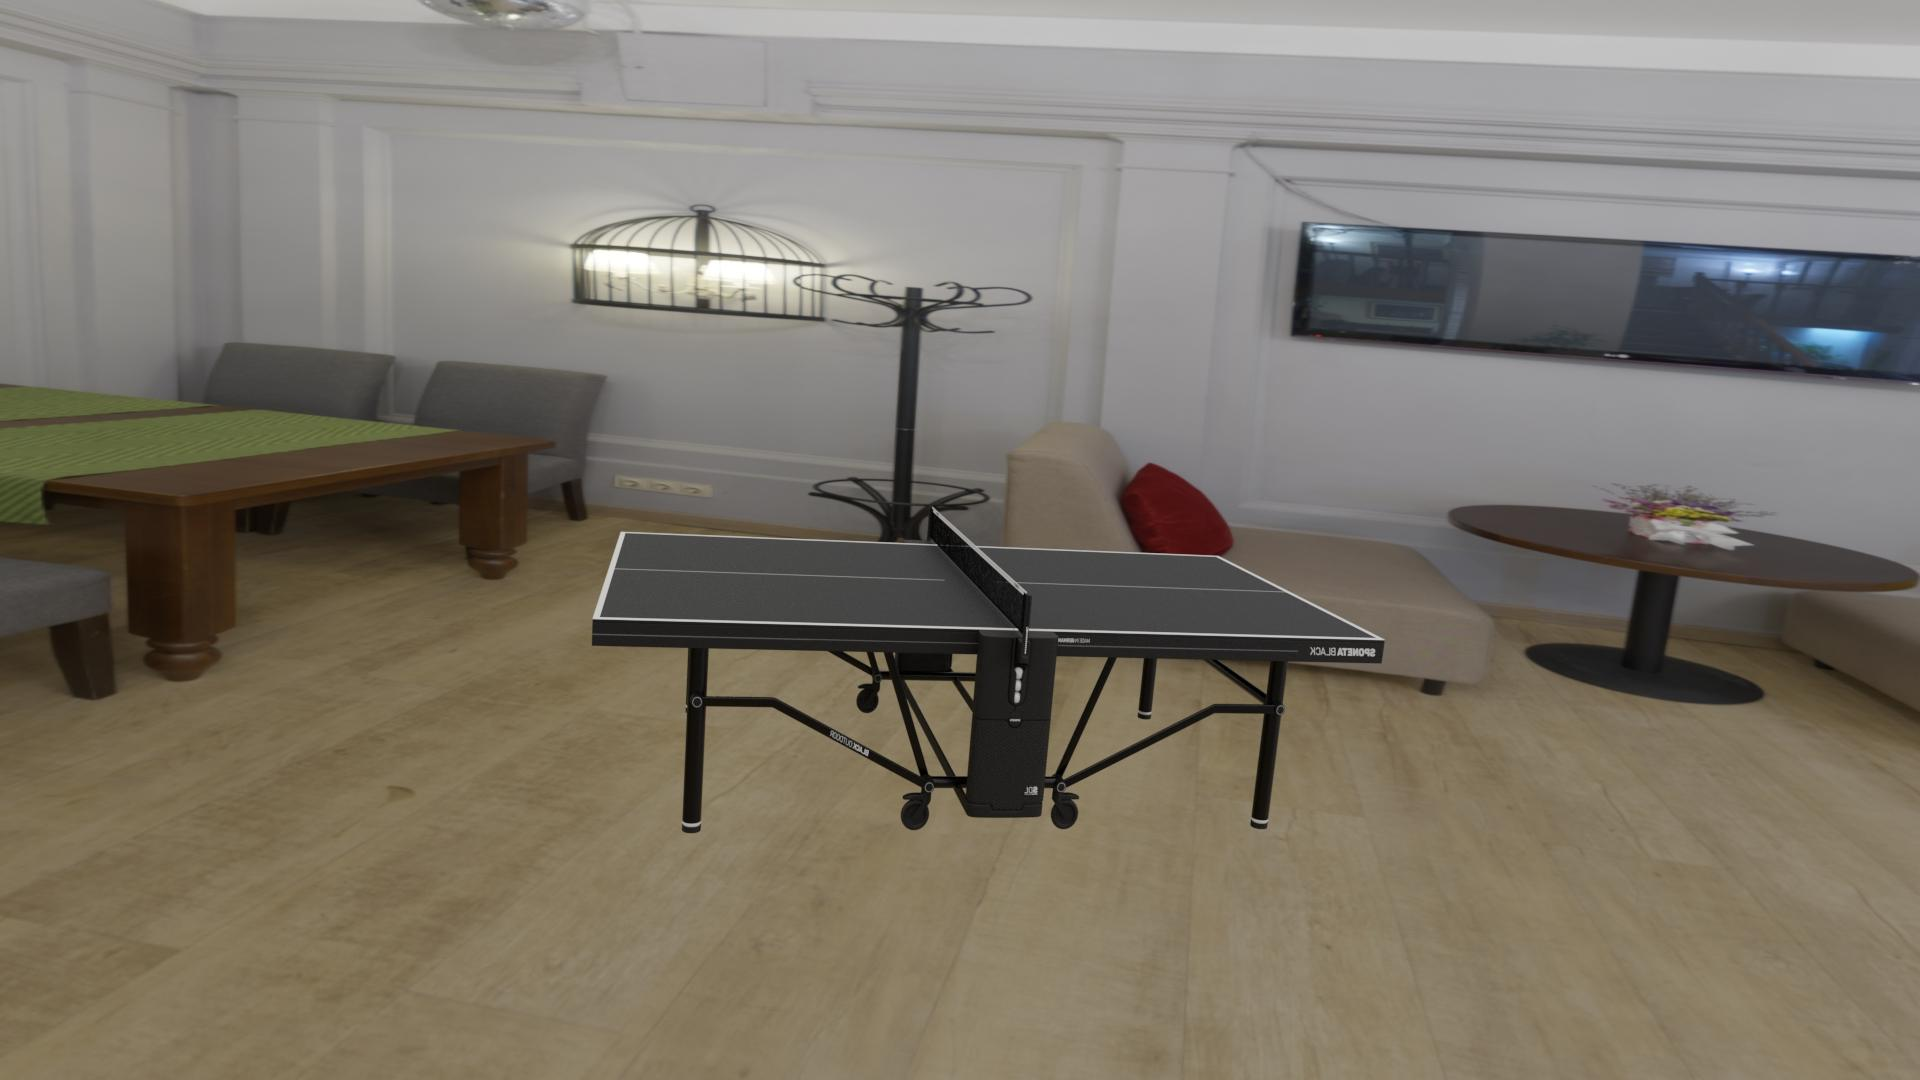table: (600, 533, 1377, 638)
